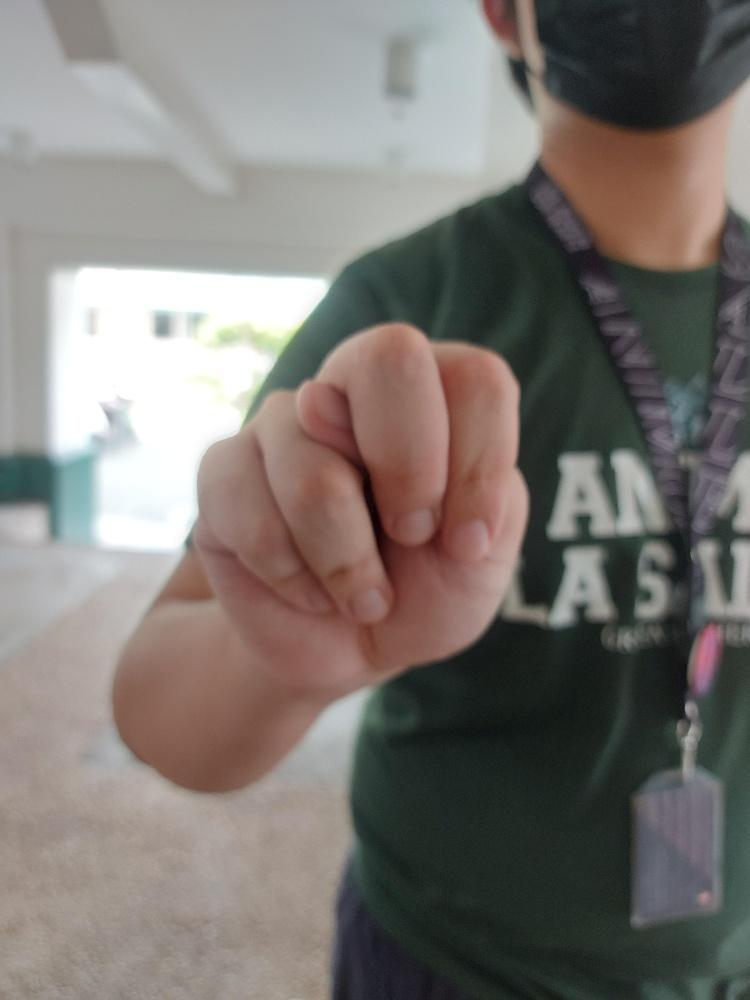n: (189, 319, 537, 686)
